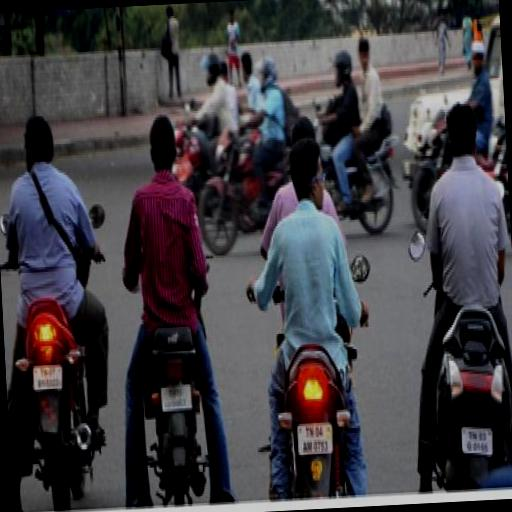no helmet: (236, 124, 378, 503), (396, 82, 512, 501), (107, 102, 231, 488), (0, 96, 119, 486)
